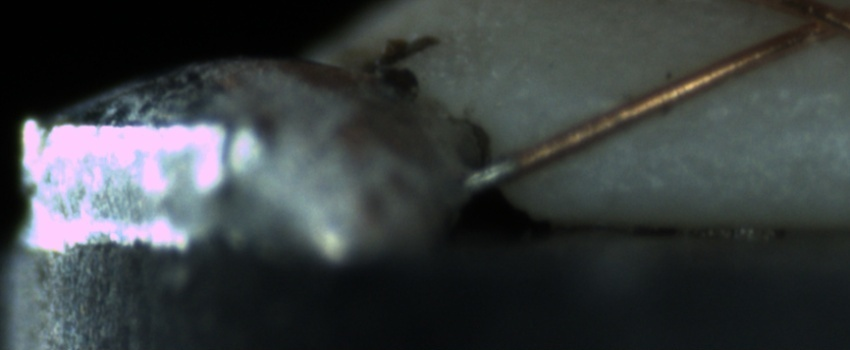CL: (771, 1, 846, 45)
TS: (460, 154, 513, 190)
